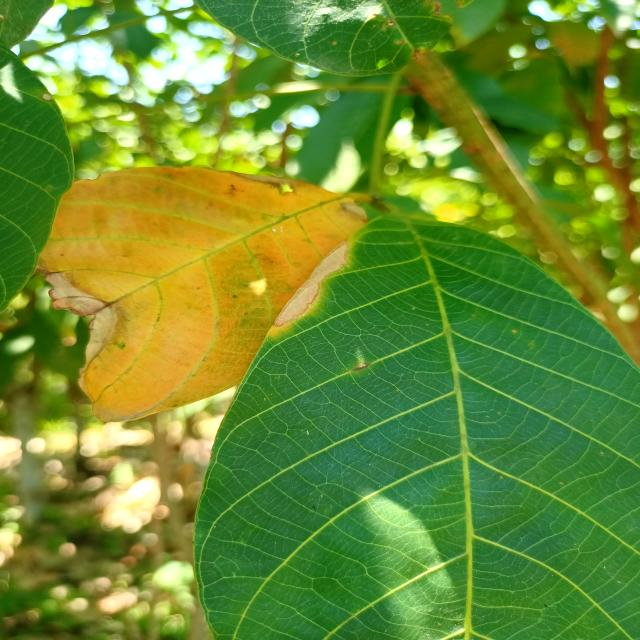Colletotrichum: (233, 294, 237, 298)
Leaf-Blight: (44, 274, 114, 382), (275, 242, 348, 328)
